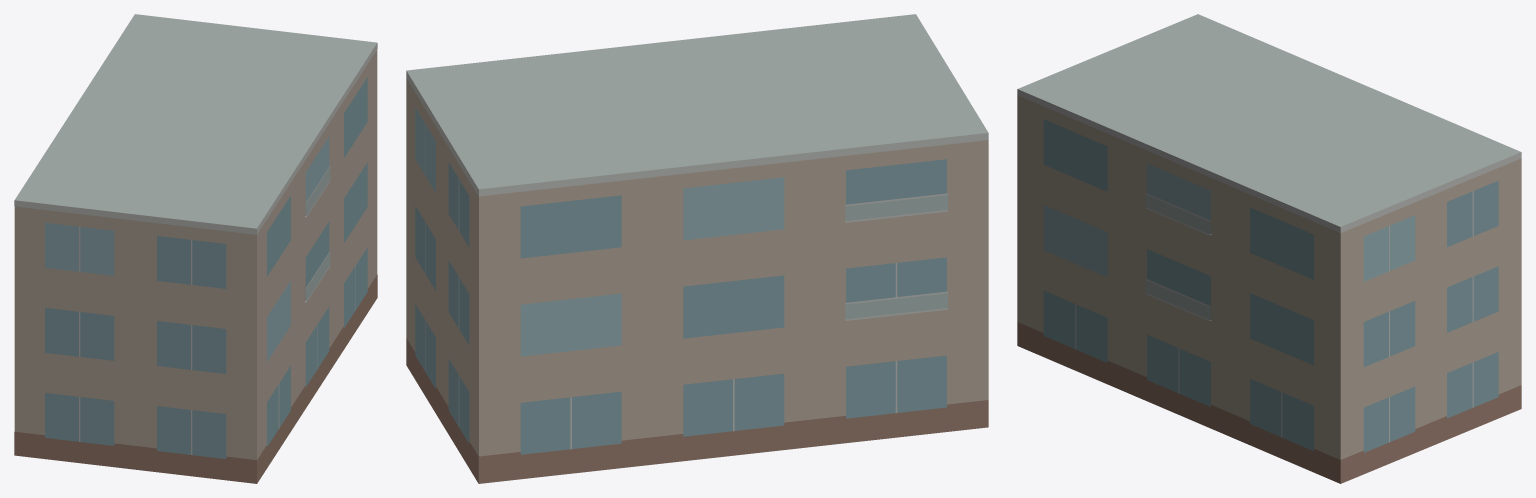
The model's file is survey-upis-32780233.glb.
3 renders of one model, left to right at view 1: azimuth 30°, elevation 25°; view 2: azimuth 150°, elevation 25°; view 3: azimuth 270°, elevation 25°, orthographic. The views are drawn at different scales.
Visible parts, largest first — view 1: survey-upis-32780233.tmp; view 2: survey-upis-32780233.tmp; view 3: survey-upis-32780233.tmp.
Part boxes in pixels (x1,y1,x2,y2): survey-upis-32780233.tmp: (14,14,377,483); survey-upis-32780233.tmp: (406,14,988,483); survey-upis-32780233.tmp: (1017,14,1521,483).
Bounding box in the file's own units: 17.97 × 10.1 × 17.97.
